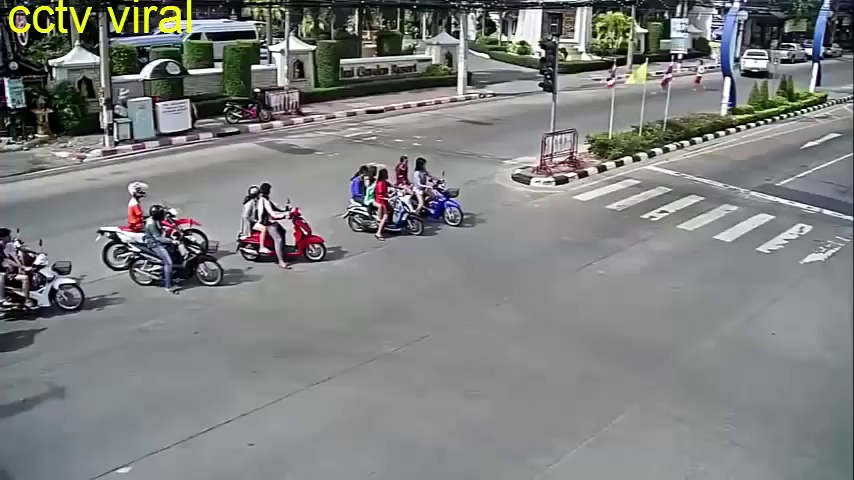car: (740, 49, 770, 79)
motorbike: (100, 179, 212, 273), (133, 209, 222, 295), (239, 182, 330, 264), (1, 243, 87, 319), (392, 158, 467, 234), (351, 166, 424, 244)
